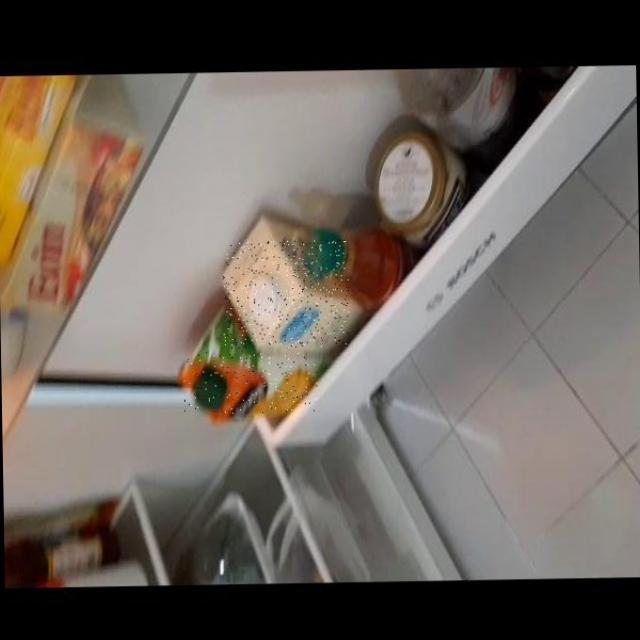juice: (183, 349, 318, 414)
milk: (222, 239, 350, 347)
